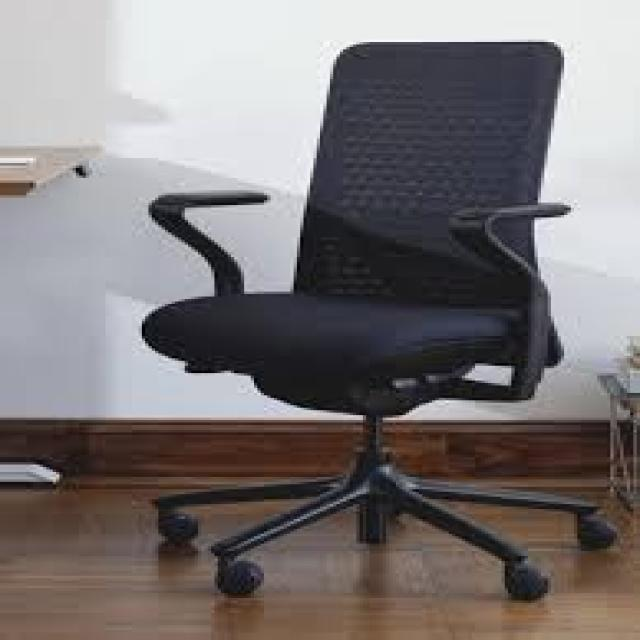chair: (122, 5, 640, 640)
